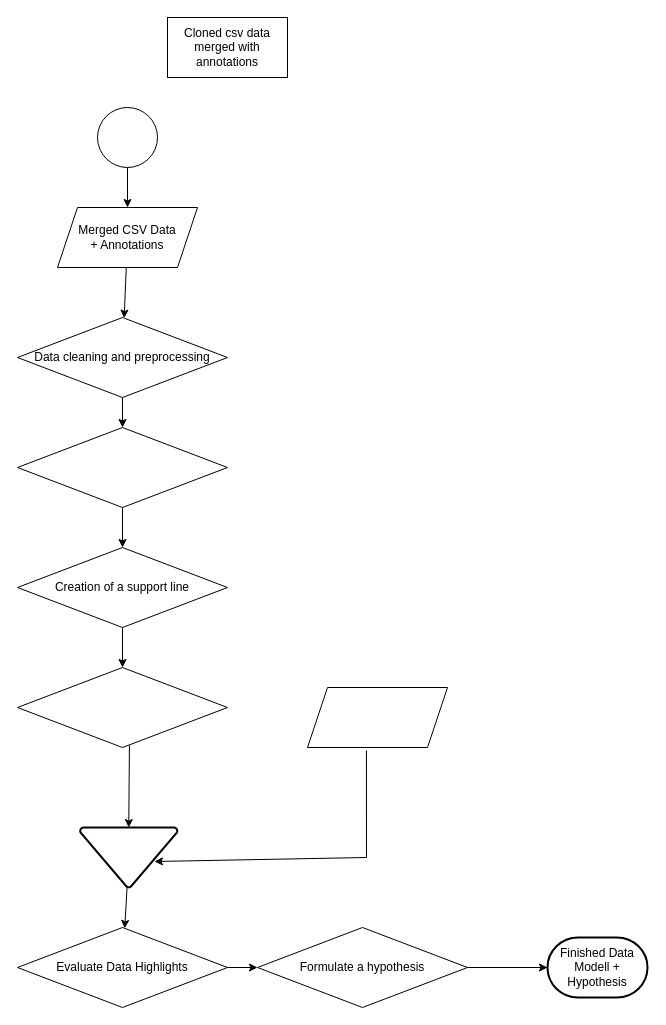
This 666x1025 diagram has some shape labels left out. The shapes that lost their labels are listed below. From the top down, each one's centre as x and y in pixels, then its label:
At point 122,467: "Identify Data Highlights".
At point 122,707: "Creation of Data Modell".
At point 377,717: "Data Modell".
